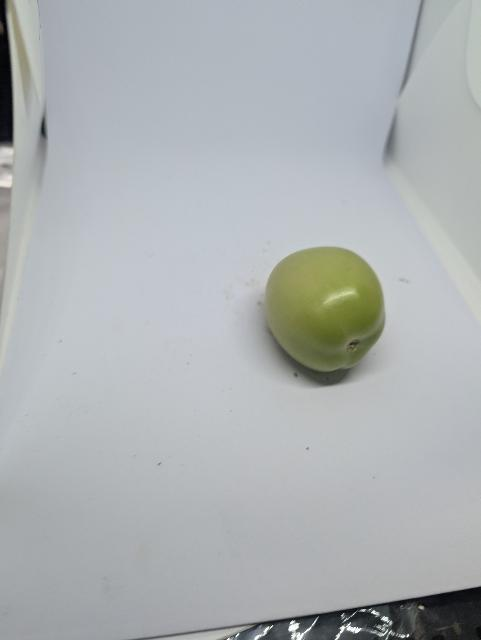green: (262, 243, 390, 375)
